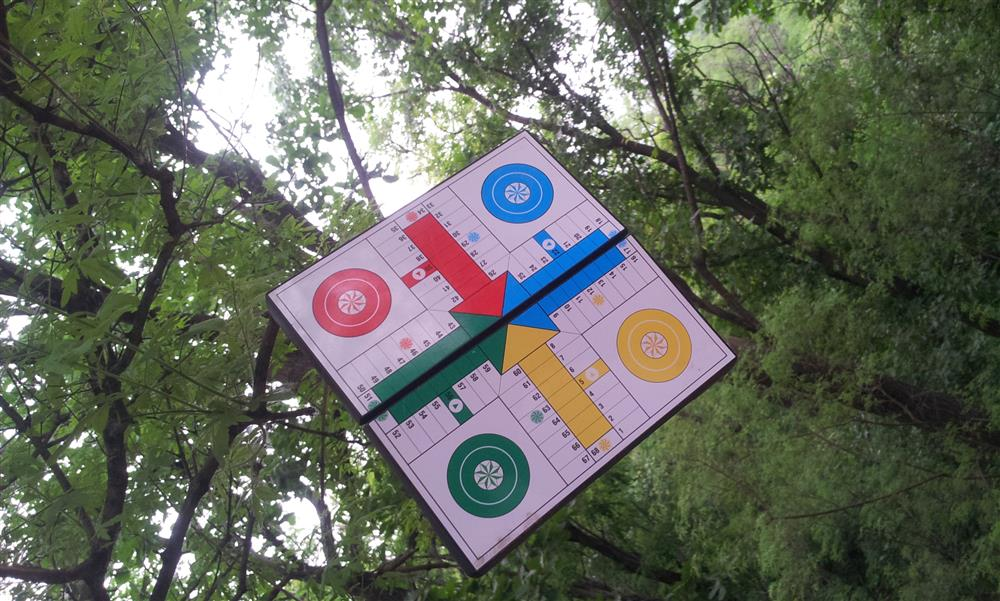parchis: (251, 122, 748, 582)
